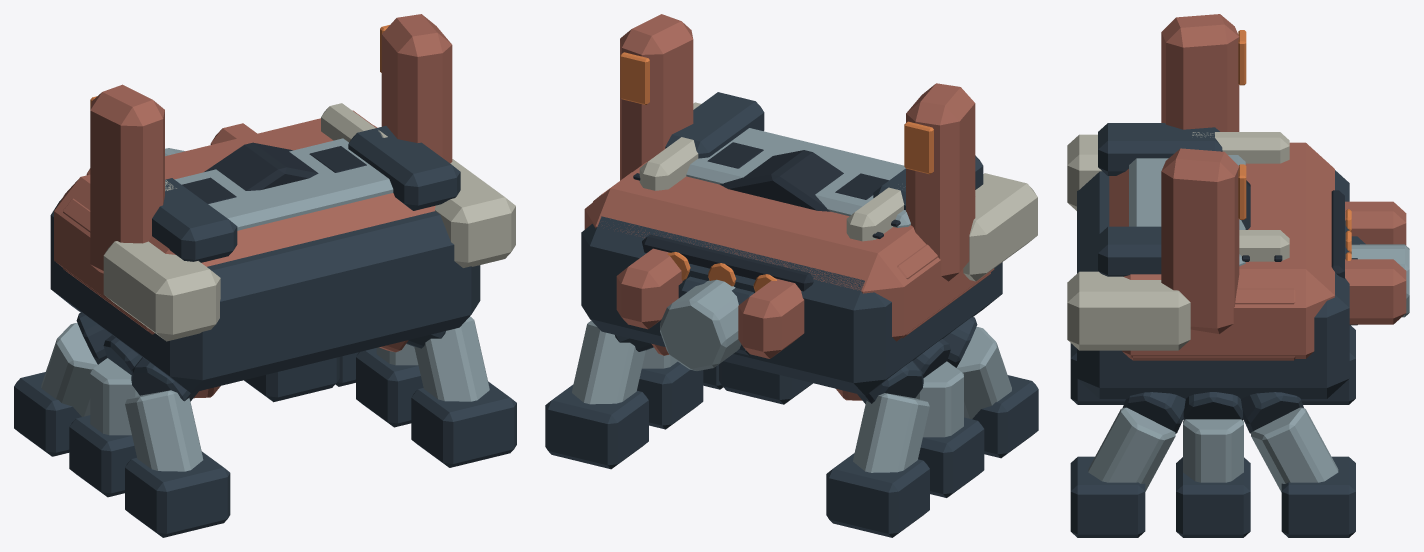
Rendered from warden.glb.
3 renders of one model, left to right at view 1: azimuth 30°, elevation 25°; view 2: azimuth 150°, elevation 25°; view 3: azimuth 270°, elevation 25°, orthographic. The views are drawn at different scales.
Parts seen in each view (by area): view 1: L0_Chassis, L0_Turret, L2_Hip4, L2_Hip5, L2_Hip0, L2_Hip2, L2_Hip3, L0_Shin4, L0_Hip4, L0_Hip0, L0_Hip2, L0_Weapon; view 2: L0_Chassis, L0_Turret, L0_Weapon, L2_Hip0, L2_Hip1, L2_Hip4, L2_Hip2, L0_Optics, L2_Hip3, L0_Shin0, L0_Hip0, L0_Hip4 (+1 smaller); view 3: L0_Chassis, L0_Turret, L2_Hip5, L2_Hip1, L2_Hip3, L0_Weapon, L0_Hip5, L0_Hip1, L0_Hip3, L0_Optics, L2_Hip0, L2_Hip4.
Boxes of the visible parts, x1,y1,x2,y2 form: L0_Chassis: (50, 110, 515, 392); L0_Turret: (90, 14, 452, 273); L2_Hip4: (125, 390, 230, 537); L2_Hip5: (411, 316, 516, 467); L2_Hip0: (14, 323, 97, 456); L2_Hip2: (69, 358, 139, 497); L2_Hip3: (356, 344, 423, 427); L0_Shin4: (244, 357, 339, 402); L0_Hip4: (131, 357, 220, 401); L0_Hip0: (76, 312, 111, 364); L0_Hip2: (103, 335, 141, 374); L0_Weapon: (86, 123, 256, 175); L0_Chassis: (581, 92, 1037, 395); L0_Turret: (620, 14, 975, 281); L0_Weapon: (616, 248, 804, 370); L2_Hip0: (826, 393, 929, 537); L2_Hip1: (545, 321, 648, 469); L2_Hip4: (956, 327, 1038, 458); L2_Hip2: (915, 361, 984, 497); L0_Optics: (642, 234, 813, 292); L2_Hip3: (637, 347, 703, 429); L0_Shin0: (719, 361, 812, 404); L0_Hip0: (836, 360, 923, 403); L0_Hip4: (943, 317, 977, 367); L0_Chassis: (1067, 123, 1349, 398); L0_Turret: (1161, 14, 1289, 333); L2_Hip5: (1070, 407, 1175, 537); L2_Hip1: (1251, 407, 1355, 537); L2_Hip3: (1176, 419, 1250, 537); L0_Weapon: (1345, 201, 1409, 325); L0_Hip5: (1122, 392, 1185, 433); L0_Hip1: (1241, 392, 1303, 433); L0_Hip3: (1183, 392, 1243, 420); L0_Optics: (1331, 190, 1351, 278); L2_Hip0: (1301, 325, 1355, 404); L2_Hip4: (1070, 343, 1125, 404).
Bounding box in the file's own units: 1.22 × 1.25 × 1.06.
